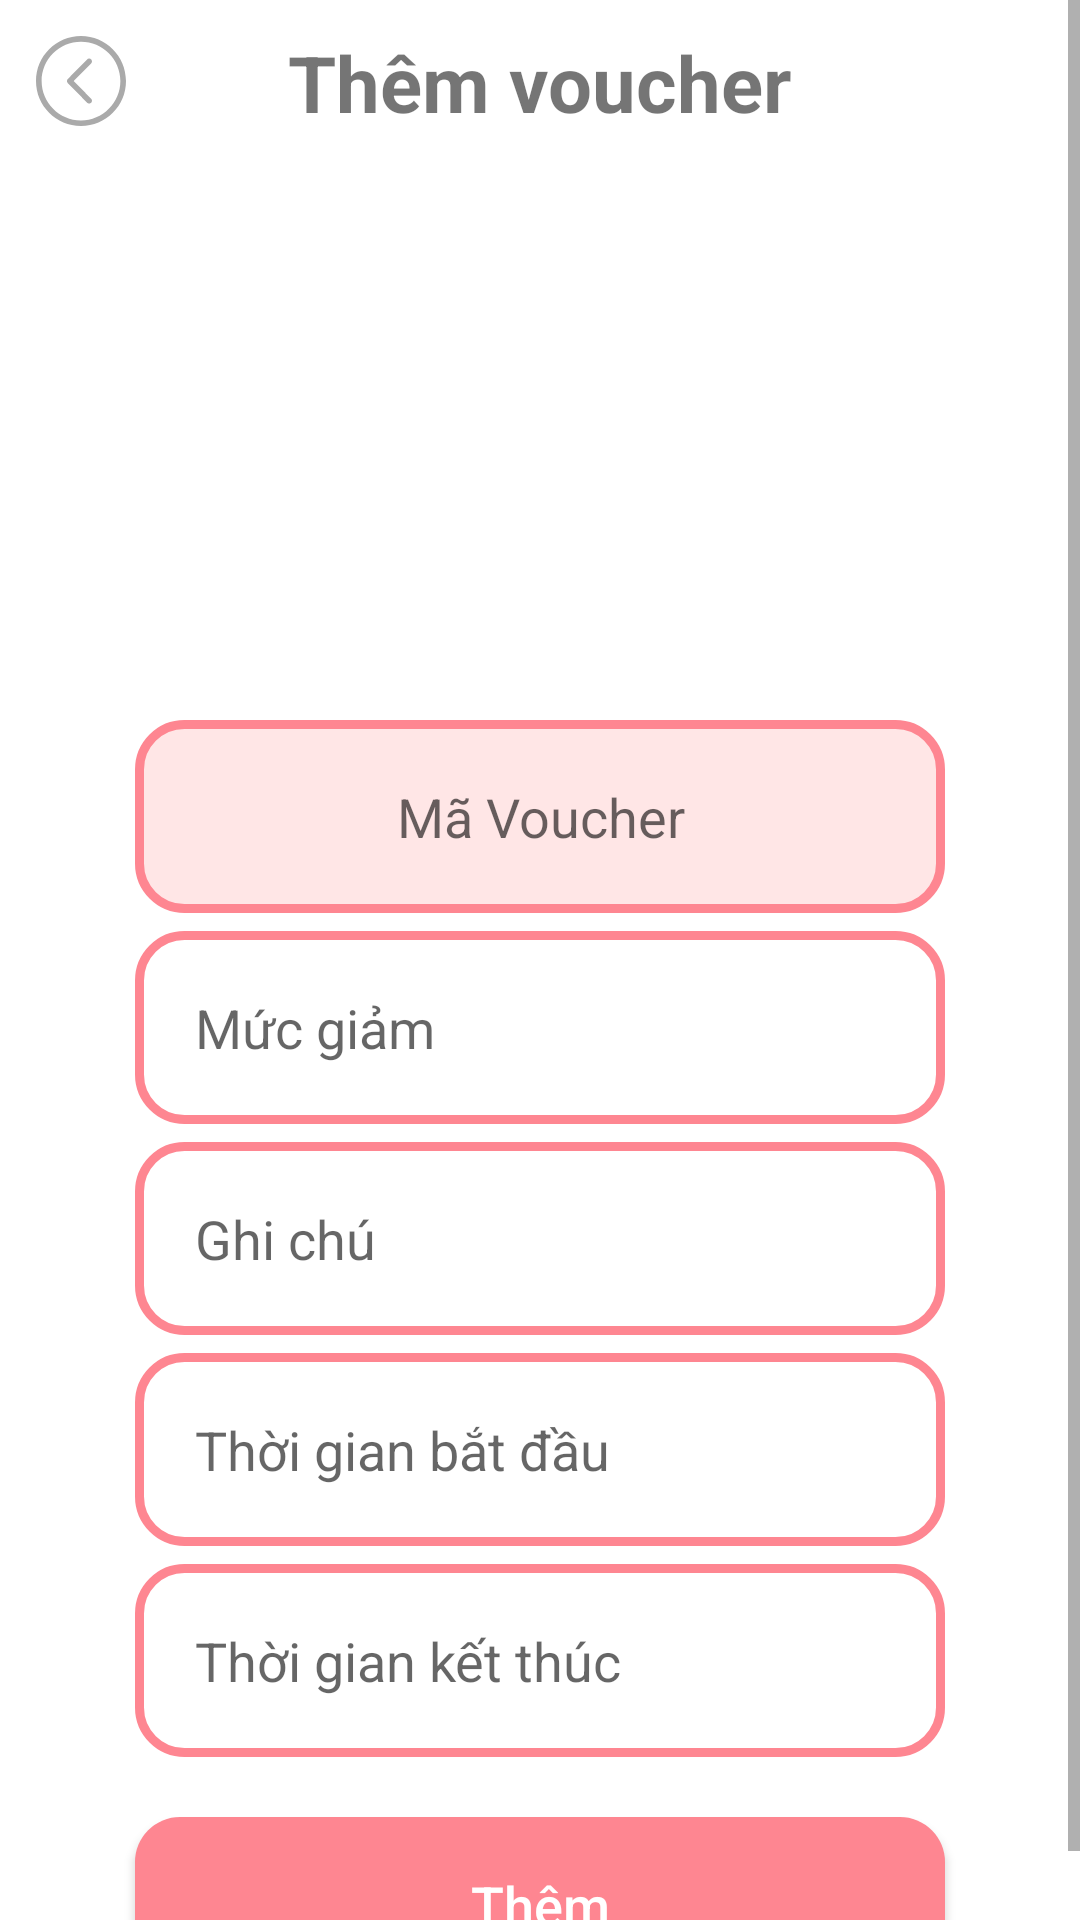

Where to tap for icons on this 1080w x 1920h app screen, as point (x, y):
back: point (81, 81)
